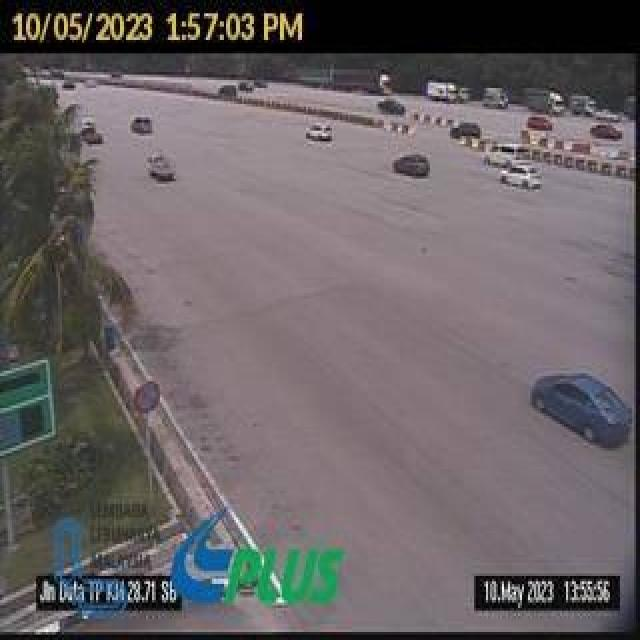Car: (523, 364, 629, 456), (393, 150, 437, 184), (146, 154, 176, 192), (500, 167, 541, 192), (134, 112, 158, 139), (305, 123, 330, 144)
